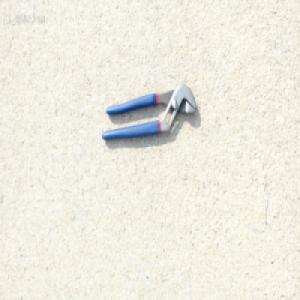Pliers: (100, 82, 197, 141)
